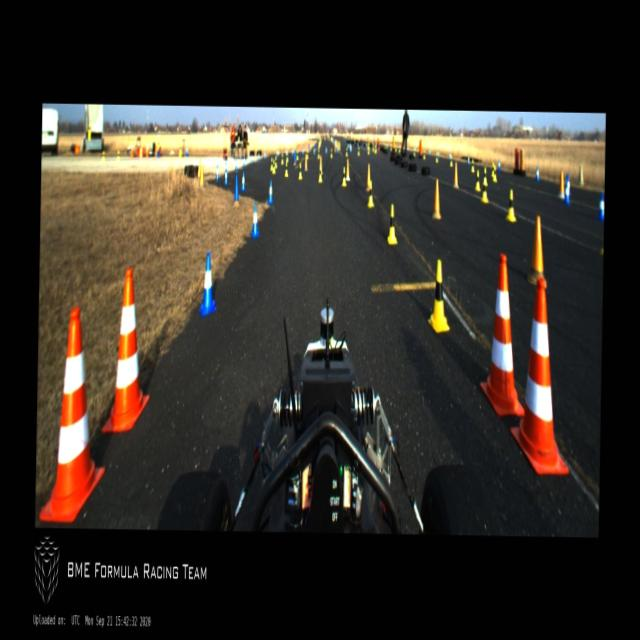blue_cone: (198, 250, 216, 315), (251, 200, 260, 238), (597, 192, 604, 220), (563, 180, 570, 206), (266, 179, 272, 204), (565, 173, 571, 196), (240, 170, 246, 192), (224, 168, 228, 185), (535, 165, 539, 181), (215, 164, 219, 180), (497, 158, 500, 171), (234, 156, 237, 169), (242, 154, 245, 166), (448, 150, 451, 160), (468, 153, 470, 166), (250, 152, 252, 164), (258, 150, 260, 162), (264, 149, 266, 159), (428, 148, 430, 158), (437, 148, 439, 158), (324, 145, 326, 154)
large_orange_cone: (38, 307, 108, 522), (509, 276, 571, 474), (101, 266, 152, 436), (479, 253, 528, 418)
yellow_cone: (427, 258, 450, 331), (387, 202, 398, 242), (506, 188, 516, 222), (367, 181, 374, 206), (481, 178, 488, 203), (475, 168, 480, 190), (482, 167, 487, 186), (342, 167, 346, 186), (298, 162, 302, 180), (318, 164, 322, 182), (284, 160, 288, 177), (272, 157, 276, 173), (493, 164, 497, 180), (490, 161, 494, 177), (470, 156, 474, 172), (422, 148, 426, 160), (412, 145, 416, 157), (344, 146, 348, 158), (316, 148, 320, 160), (356, 145, 359, 156), (275, 152, 277, 168), (450, 154, 452, 168), (270, 157, 272, 170), (436, 151, 438, 164), (281, 152, 283, 164), (330, 146, 332, 158), (286, 150, 288, 162), (296, 148, 298, 160), (374, 144, 376, 154), (394, 143, 396, 152), (398, 144, 400, 152), (367, 146, 369, 154)
